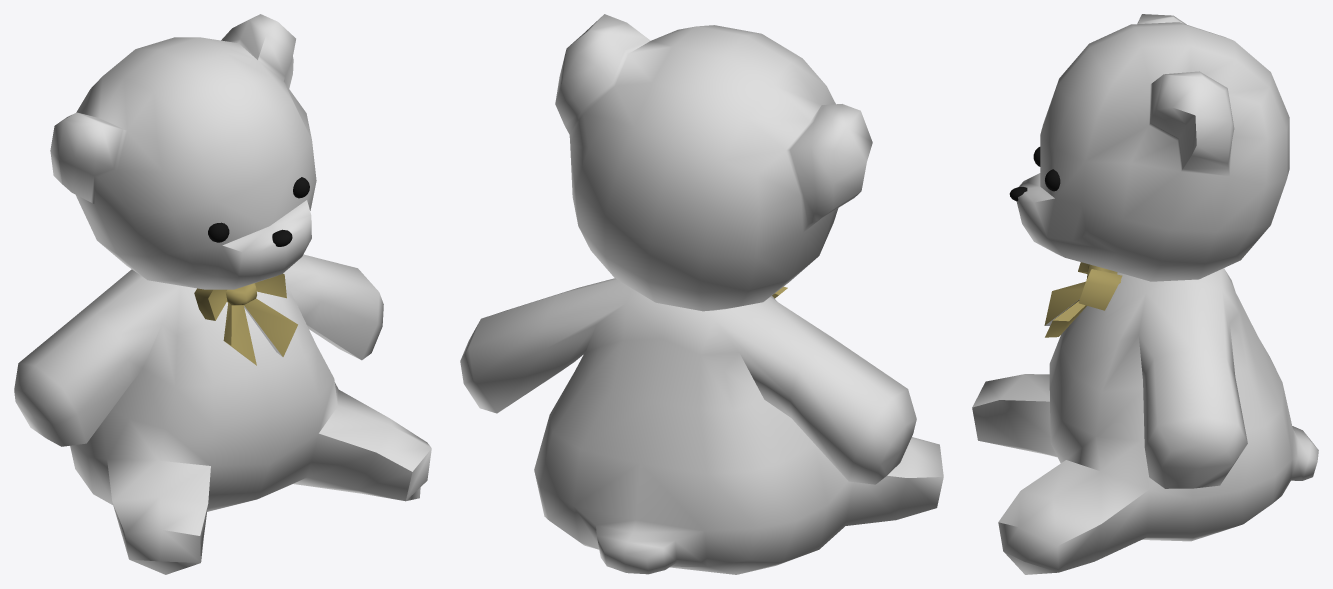
File: NST_TeddyBear_Big.fbx
3 renders of one model, left to right at view 1: azimuth 30°, elevation 25°; view 2: azimuth 150°, elevation 25°; view 3: azimuth 270°, elevation 25°, orthographic. The views are drawn at different scales.
Visible parts, largest first — view 1: NST_TeddyBear_Open; view 2: NST_TeddyBear_Open; view 3: NST_TeddyBear_Open.
Part boxes in pixels (box(x1,y1,x2,y2)): NST_TeddyBear_Open: box(14, 14, 431, 574); NST_TeddyBear_Open: box(460, 14, 943, 574); NST_TeddyBear_Open: box(972, 14, 1318, 574).
Size of the model in its own units: 56.89 by 66.74 by 44.94.
